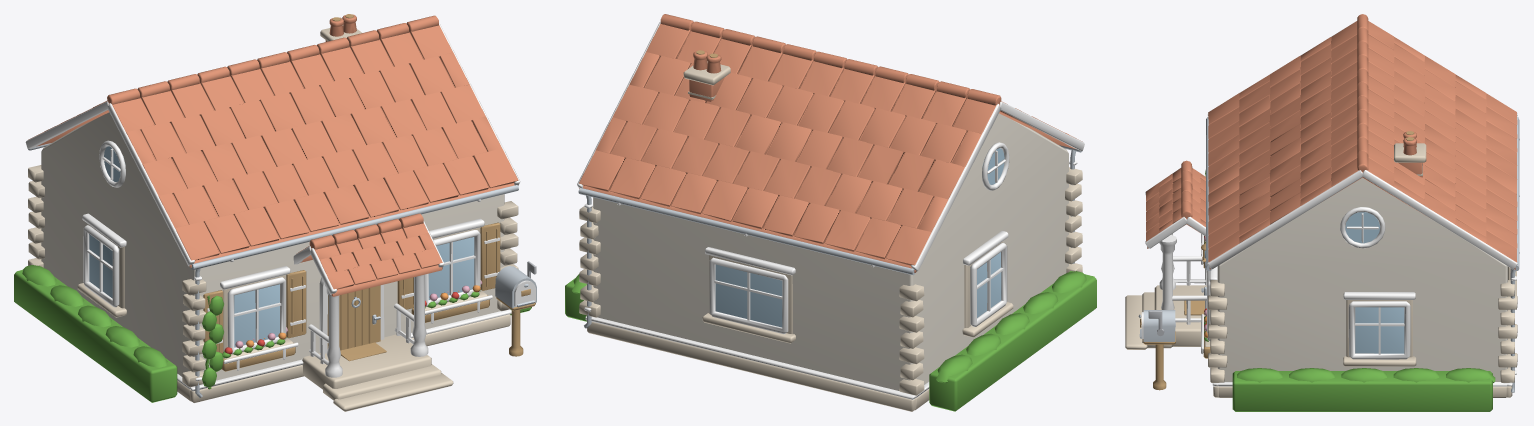
File: fine_house.glb
3 renders of one model, left to right at view 1: azimuth 30°, elevation 25°; view 2: azimuth 150°, elevation 25°; view 3: azimuth 270°, elevation 25°, orthographic. The views are drawn at different scales.
Parts seen in each view (by area): view 1: fine_house_structure; view 2: fine_house_structure; view 3: fine_house_structure.
Part boxes in pixels (x1=…): fine_house_structure: x1=14, y1=14, x2=536, y2=411; fine_house_structure: x1=565, y1=14, x2=1096, y2=411; fine_house_structure: x1=1125, y1=14, x2=1519, y2=411.
Size of the model in its own units: 8.59 by 5.4 by 8.15.
